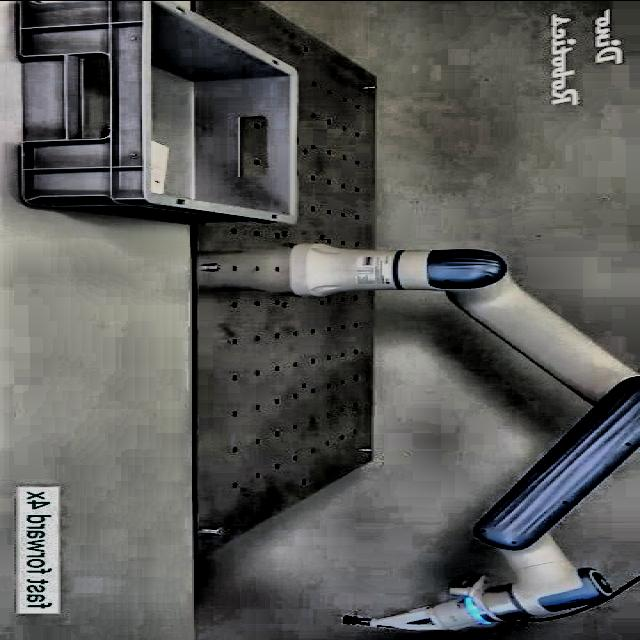robot: (290, 241, 640, 631)
